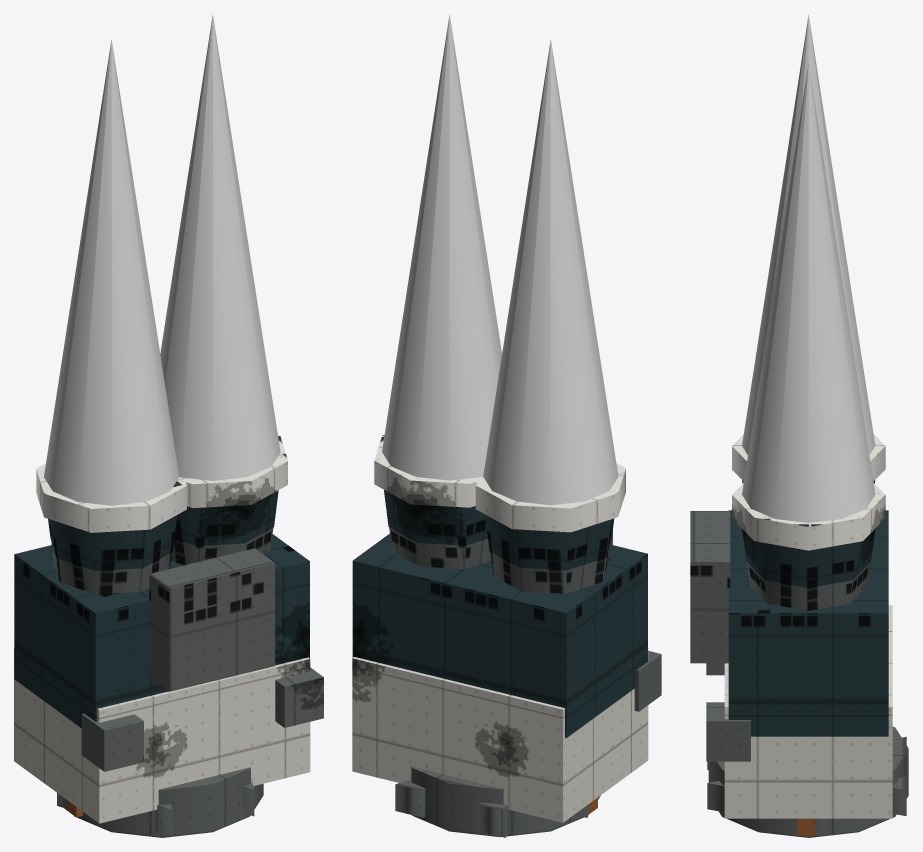
Rendered from drive_twin_torch.glb.
3 renders of one model, left to right at view 1: azimuth 30°, elevation 25°; view 2: azimuth 150°, elevation 25°; view 3: azimuth 270°, elevation 25°, orthographic.
Visible parts, largest first — view 1: flame (×2), merged-646a6c, merged-263c43, merged-ededea, merged-171b1e; view 2: flame (×2), merged-263c43, merged-ededea, merged-646a6c, merged-171b1e; view 3: flame (×2), merged-263c43, merged-646a6c, merged-ededea, merged-171b1e.
Boxes of the visible parts, box(x1,y1,x2,y2) form: flame (×2): box(44, 14, 280, 505); merged-646a6c: box(51, 528, 323, 837); merged-263c43: box(14, 490, 309, 728); merged-ededea: box(14, 648, 310, 823); merged-171b1e: box(36, 435, 287, 532); flame (×2): box(382, 15, 618, 505); merged-263c43: box(352, 490, 647, 737); merged-ededea: box(352, 647, 648, 822); merged-646a6c: box(389, 527, 661, 837); merged-171b1e: box(374, 435, 625, 532); flame (×2): box(742, 15, 875, 522); merged-263c43: box(728, 480, 888, 736); merged-646a6c: box(690, 511, 908, 837); merged-ededea: box(724, 605, 892, 818); merged-171b1e: box(732, 434, 885, 550).
Size of the model in its own units: 3.36 by 10.45 by 2.73.
7 materials, 6 textured.
